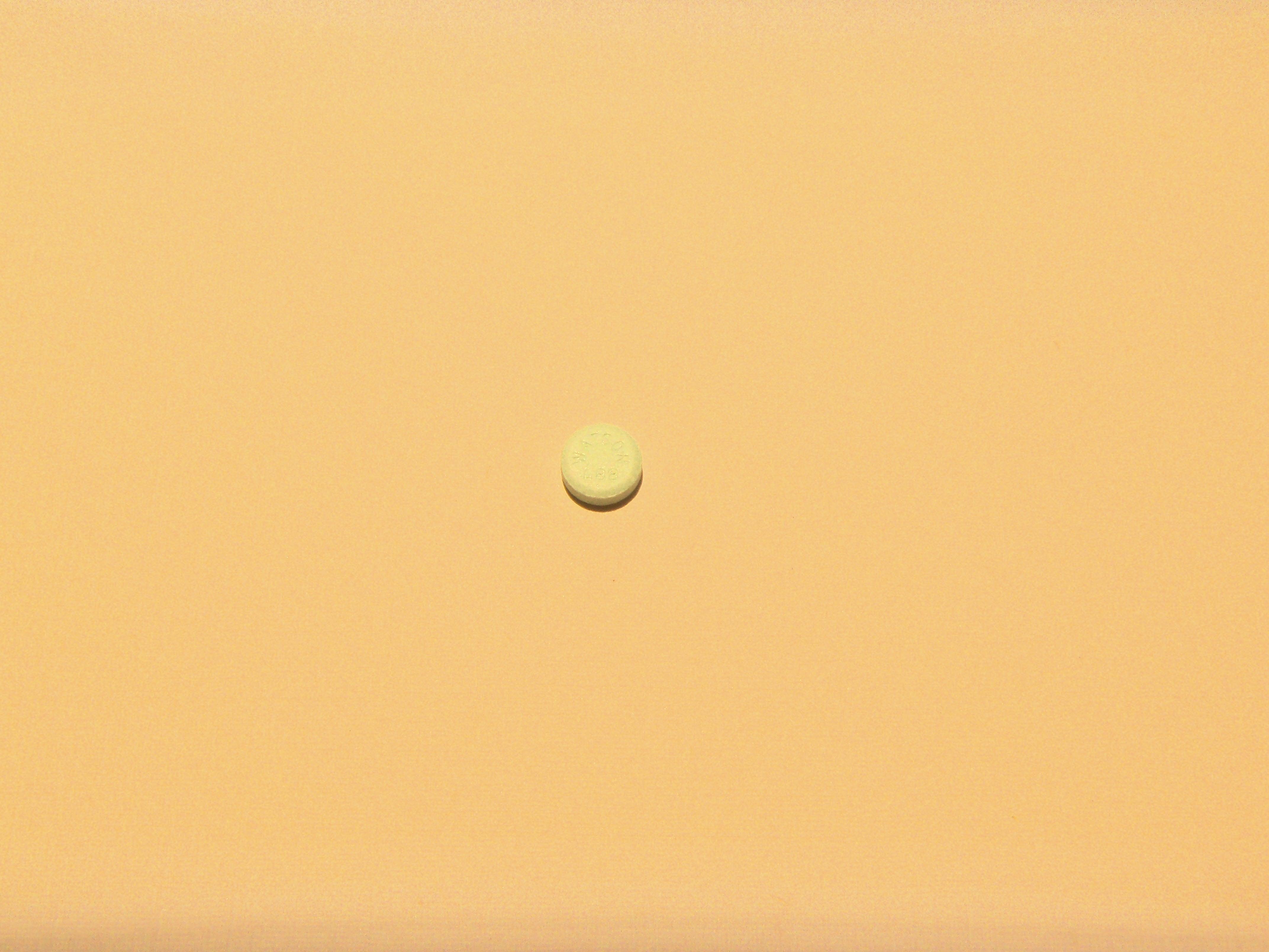Pill: (553, 414, 650, 520)
